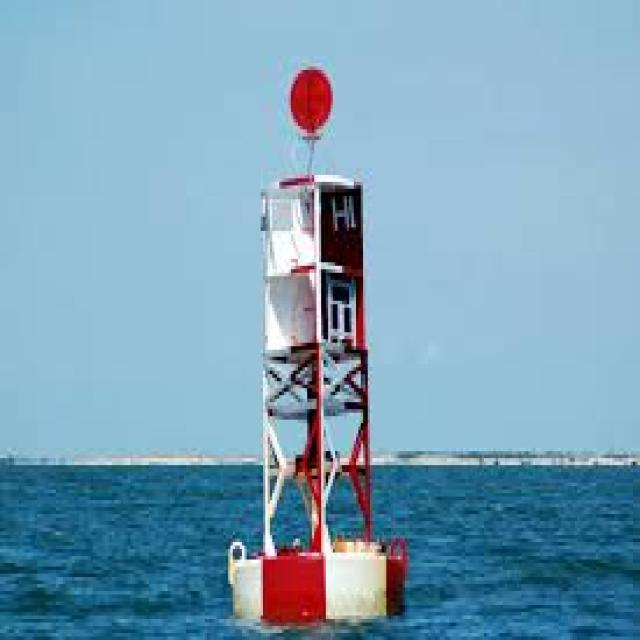marque: (219, 48, 411, 631)
